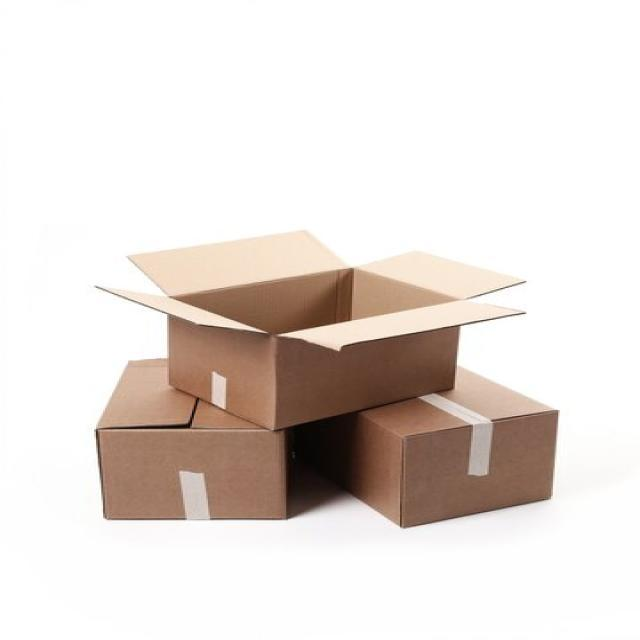BoxFace: (398, 408, 558, 530), (97, 426, 286, 522)
